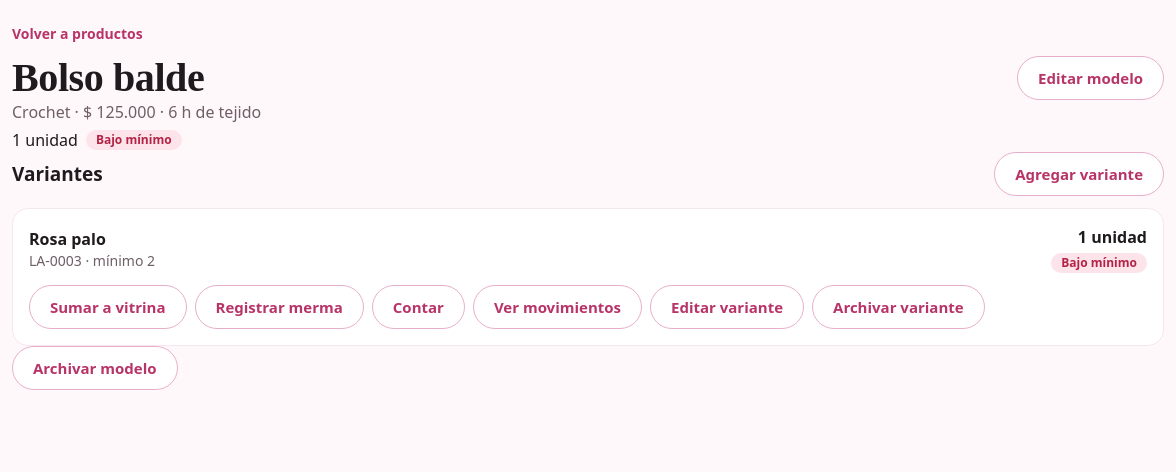
Test: archivar pide confirmación antes de borrar
Step 1. Click the button "Archivar modelo" → (95, 368), box x1=12 y1=346 x2=178 y2=390
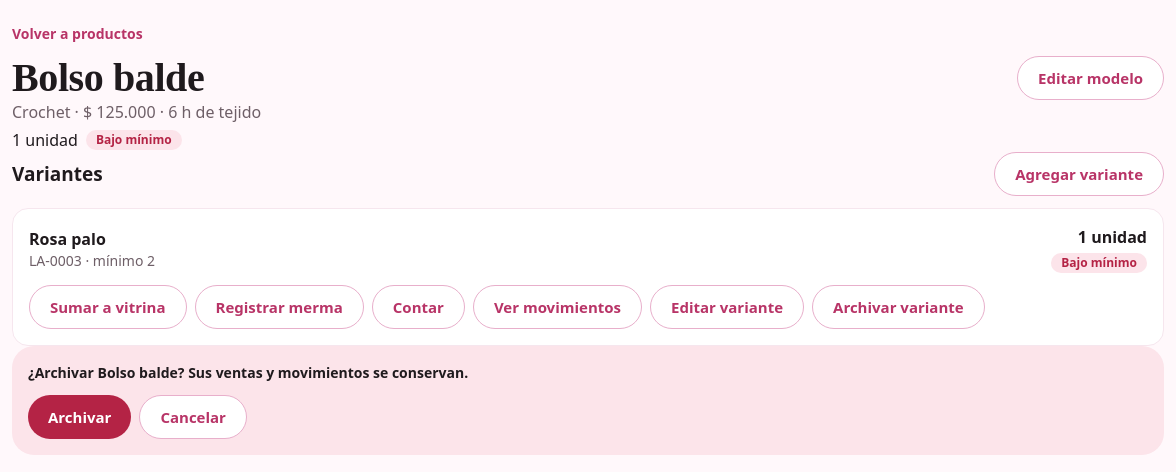
Result: the text "¿Archivar Bolso balde? Sus ventas y movimientos se conservan." is shown at x1=28 y1=363 x2=468 y2=382
Step 2. Click the button "Archivar" → (80, 417), box x1=28 y1=395 x2=131 y2=439
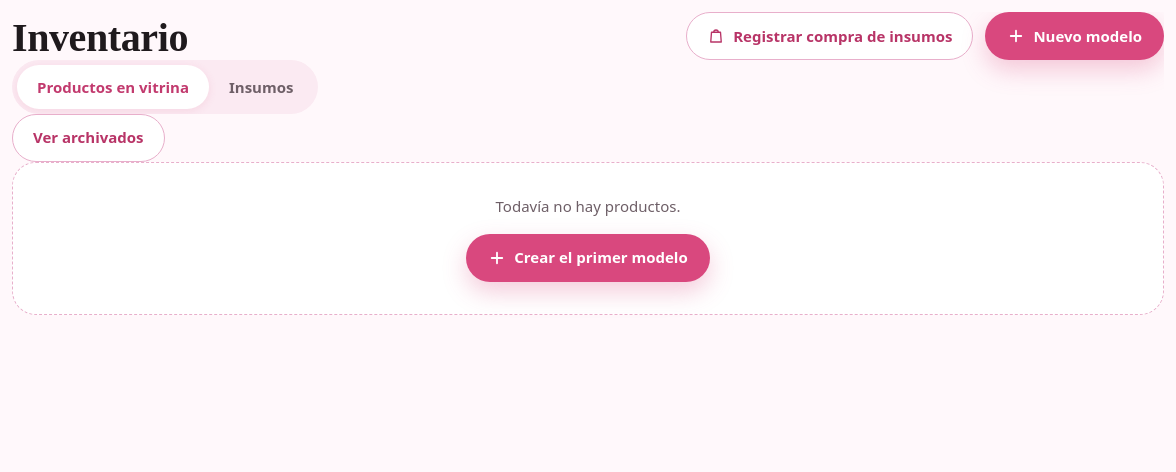
Result: the text "Todavía no hay productos." is shown at x1=496 y1=195 x2=680 y2=218
